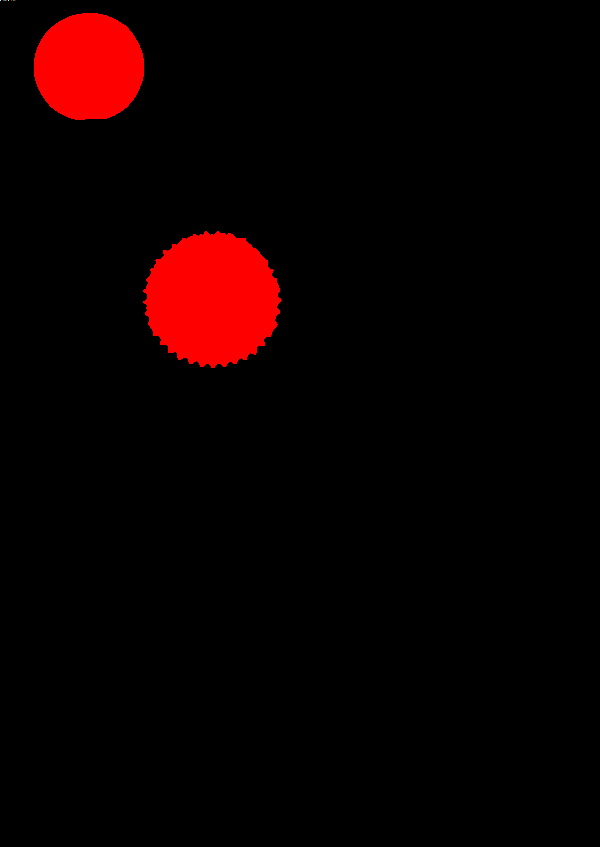stamp: (145, 231, 279, 368), (35, 11, 146, 123)
